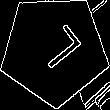L_SW: (26, 22, 83, 78)
